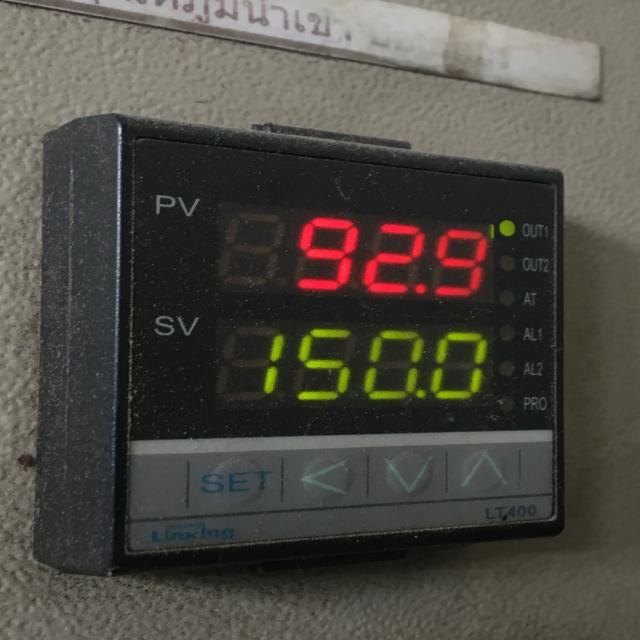display: (218, 200, 494, 304), (214, 318, 495, 414)
frame: (284, 211, 488, 301), (258, 329, 487, 407), (506, 503, 542, 519), (542, 257, 553, 274), (536, 362, 546, 377), (543, 224, 551, 241), (536, 327, 544, 343)
gauge: (32, 114, 568, 581)
